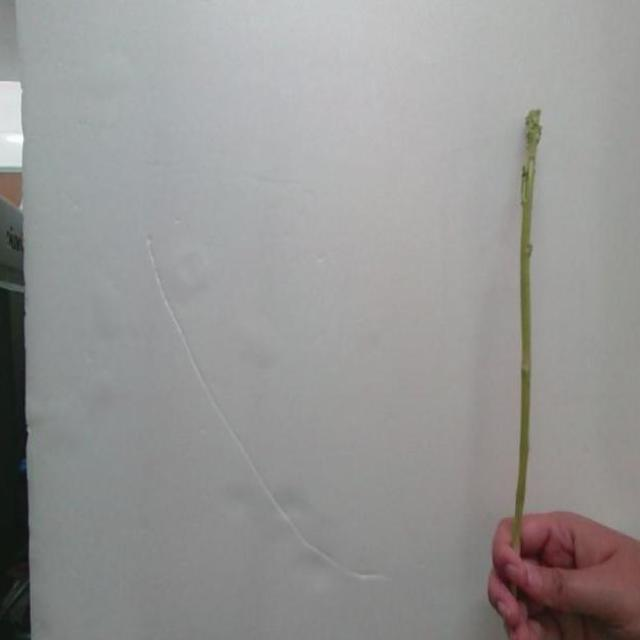aspargus: (514, 110, 541, 559)
